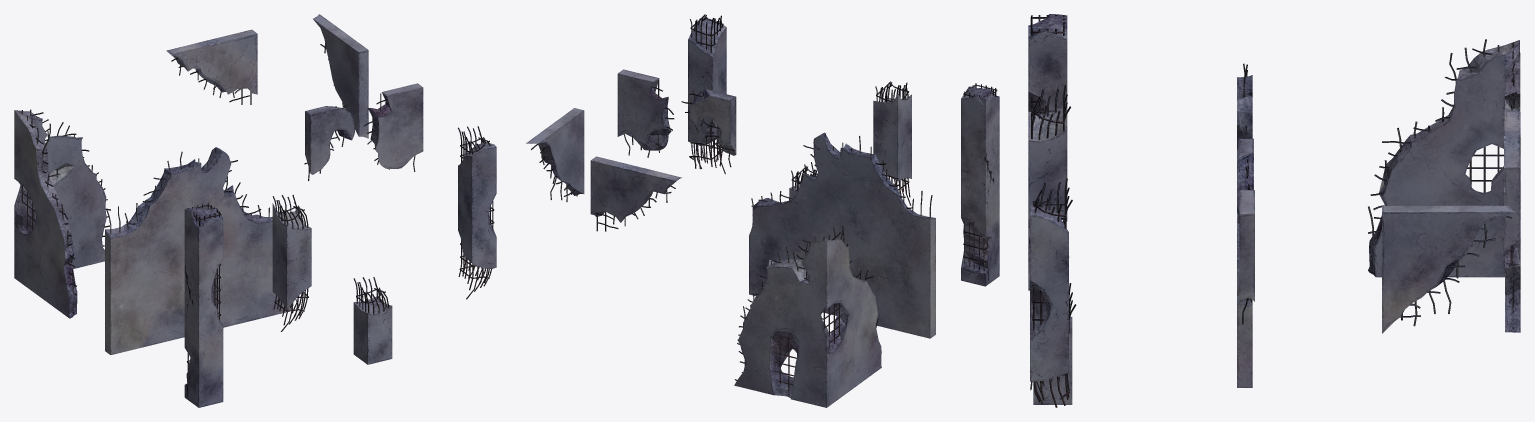
Rendered from broken_concrete_debris.glb.
3 renders of one model, left to right at view 1: azimuth 30°, elevation 25°; view 2: azimuth 150°, elevation 25°; view 3: azimuth 270°, elevation 25°, orthographic. The views are drawn at different scales.
Visible parts, largest first — view 1: broken_concrete_wall_001.001_conclete_debri_skin_0, broken_concrete_wall_cornor_001.001_conclete_debri_skin_0, broken_concrete_pillar_001.002_conclete_debri_skin_0, broken_concrete_pillar_003.001_conclete_debri_skin_0, broken_concrete_pillar_002.002_conclete_debri_skin_0, broken_concrete_wall_cornor_002.001_conclete_debri_skin_0, broken_concrete_wall_003.001_conclete_debri_skin_0, broken_concrete_wall_cornor_003.001_conclete_debri_skin_0, broken_concrete_pillar_002.003_conclete_debri_skin_0, broken_concrete_wall_002.001_conclete_debri_skin_0; view 2: broken_concrete_wall_001.001_conclete_debri_skin_0, broken_concrete_wall_cornor_001.001_conclete_debri_skin_0, broken_concrete_pillar_001.002_conclete_debri_skin_0, broken_concrete_pillar_003.001_conclete_debri_skin_0, broken_concrete_wall_cornor_002.001_conclete_debri_skin_0, broken_concrete_wall_003.001_conclete_debri_skin_0, broken_concrete_pillar_002.002_conclete_debri_skin_0, broken_concrete_wall_cornor_003.001_conclete_debri_skin_0, broken_concrete_wall_002.001_conclete_debri_skin_0; view 3: broken_concrete_wall_cornor_001.001_conclete_debri_skin_0, broken_concrete_wall_cornor_003.001_conclete_debri_skin_0, broken_concrete_pillar_003.001_conclete_debri_skin_0, broken_concrete_pillar_002.002_conclete_debri_skin_0, broken_concrete_pillar_001.002_conclete_debri_skin_0, broken_concrete_wall_001.001_conclete_debri_skin_0, broken_concrete_wall_cornor_002.001_conclete_debri_skin_0, broken_concrete_wall_003.001_conclete_debri_skin_0, broken_concrete_pillar_002.003_conclete_debri_skin_0, broken_concrete_wall_002.001_conclete_debri_skin_0.
Boxes of the visible parts, left/top/right/bottom form: broken_concrete_wall_001.001_conclete_debri_skin_0: left=105, top=147, right=291, bottom=354; broken_concrete_wall_cornor_001.001_conclete_debri_skin_0: left=14, top=109, right=110, bottom=318; broken_concrete_pillar_001.002_conclete_debri_skin_0: left=184, top=203, right=223, bottom=407; broken_concrete_pillar_003.001_conclete_debri_skin_0: left=458, top=126, right=496, bottom=299; broken_concrete_pillar_002.002_conclete_debri_skin_0: left=272, top=194, right=311, bottom=331; broken_concrete_wall_cornor_002.001_conclete_debri_skin_0: left=166, top=29, right=257, bottom=104; broken_concrete_wall_003.001_conclete_debri_skin_0: left=364, top=83, right=423, bottom=171; broken_concrete_wall_cornor_003.001_conclete_debri_skin_0: left=313, top=14, right=368, bottom=138; broken_concrete_pillar_002.003_conclete_debri_skin_0: left=353, top=277, right=392, bottom=364; broken_concrete_wall_002.001_conclete_debri_skin_0: left=304, top=104, right=356, bottom=180; broken_concrete_wall_001.001_conclete_debri_skin_0: left=749, top=132, right=935, bottom=338; broken_concrete_wall_cornor_001.001_conclete_debri_skin_0: left=734, top=225, right=881, bottom=407; broken_concrete_pillar_001.002_conclete_debri_skin_0: left=961, top=83, right=999, bottom=286; broken_concrete_pillar_003.001_conclete_debri_skin_0: left=688, top=14, right=726, bottom=174; broken_concrete_wall_cornor_002.001_conclete_debri_skin_0: left=590, top=156, right=681, bottom=231; broken_concrete_wall_003.001_conclete_debri_skin_0: left=617, top=69, right=674, bottom=157; broken_concrete_pillar_002.002_conclete_debri_skin_0: left=873, top=81, right=911, bottom=205; broken_concrete_wall_cornor_003.001_conclete_debri_skin_0: left=526, top=108, right=584, bottom=201; broken_concrete_wall_002.001_conclete_debri_skin_0: left=681, top=89, right=736, bottom=167; broken_concrete_wall_cornor_001.001_conclete_debri_skin_0: left=1368, top=39, right=1520, bottom=332; broken_concrete_wall_cornor_003.001_conclete_debri_skin_0: left=1382, top=205, right=1516, bottom=333; broken_concrete_pillar_003.001_conclete_debri_skin_0: left=1030, top=178, right=1072, bottom=407; broken_concrete_pillar_002.002_conclete_debri_skin_0: left=1028, top=85, right=1070, bottom=257; broken_concrete_pillar_001.002_conclete_debri_skin_0: left=1028, top=14, right=1067, bottom=290; broken_concrete_wall_001.001_conclete_debri_skin_0: left=1237, top=63, right=1252, bottom=387; broken_concrete_wall_cornor_002.001_conclete_debri_skin_0: left=1504, top=109, right=1519, bottom=264; broken_concrete_wall_003.001_conclete_debri_skin_0: left=1239, top=186, right=1254, bottom=324; broken_concrete_pillar_002.003_conclete_debri_skin_0: left=1033, top=283, right=1076, bottom=404; broken_concrete_wall_002.001_conclete_debri_skin_0: left=1238, top=138, right=1253, bottom=223.
Size of the model in its own units: 3.45 by 2.13 by 3.41.
1 material, 1 textured.
